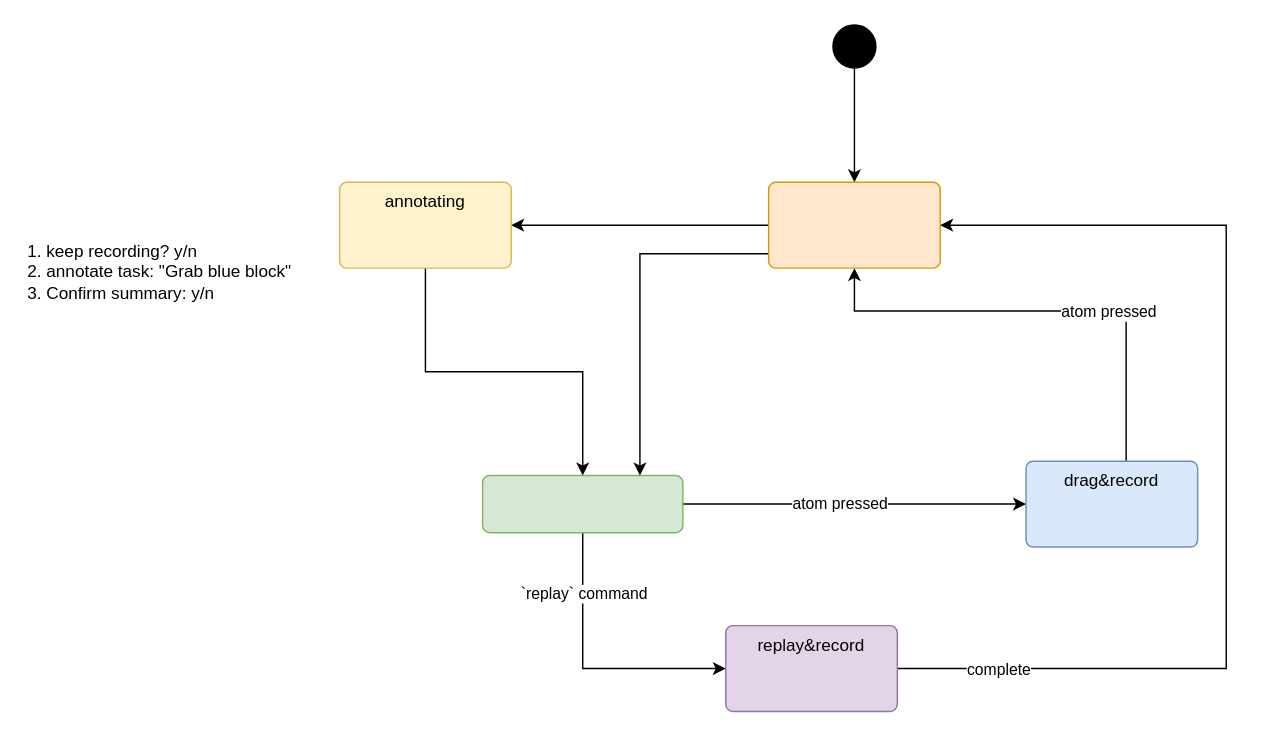
The diagram is 1263 pixels wide and 736 high, and some of its shapes have lost their labels. Each missing label, with the box of its shape:
idle: (481, 474, 683, 533)
resetting: (767, 181, 940, 268)
